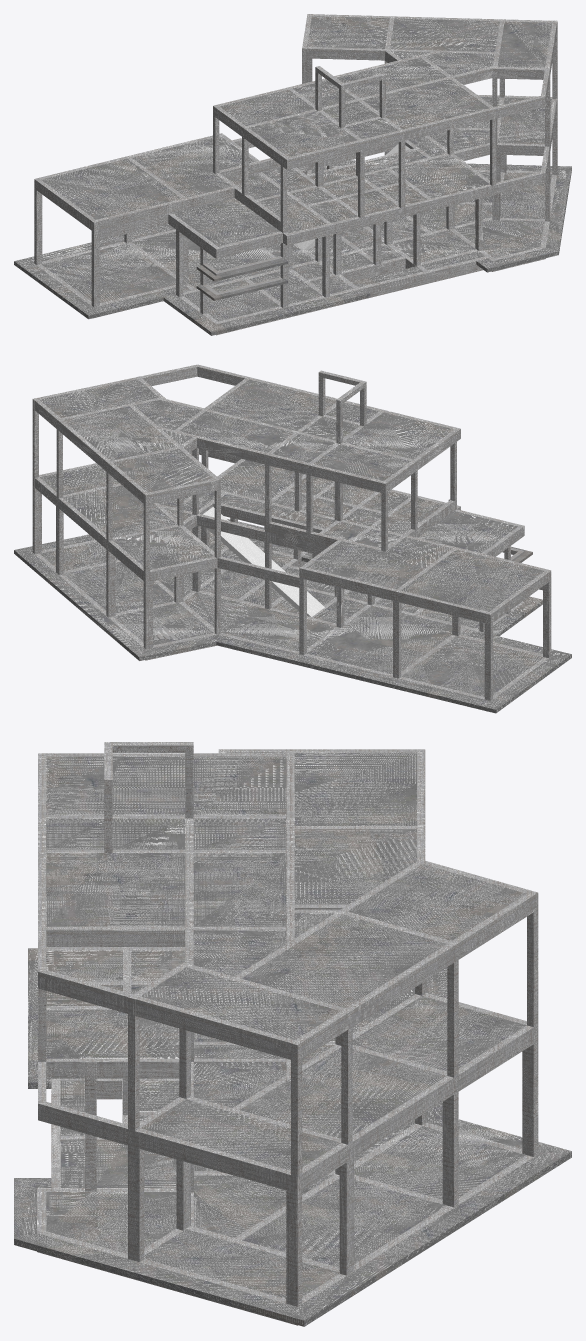
File: vivienda-em.dae
The picture shows the model from 3 angles, top to bottom: view 1: azimuth 30°, elevation 25°; view 2: azimuth 150°, elevation 25°; view 3: azimuth 270°, elevation 25°; orthographic projection. The views are drawn at different scales.
Visible parts, largest first — view 1: Platea (×15), Losas1_1 (×15), Losas2_1 (×11), Vig2 (×9), Vig3 (×5), Vig1 (×2), Col1_2 (×8), Col2_1 (×3), group_1, group_0, Vig4_1; view 2: Platea (×10), Losas1_1 (×12), Losas2_1 (×11), Vig2 (×12), Vig3 (×6), Col1_2 (×9), Vig1 (×2), Col2_1 (×7), Escalera_3, Vig4_1; view 3: Losas2_1 (×11), Platea (×10), Losas1_1 (×10), Vig3 (×7), Vig2 (×8), Col1_2 (×7), Col2_1 (×6), Vig1 (×4), Vig4_1.
Part boxes in pixels (bbox=[...]): Platea (×15): bbox=[14, 160, 571, 335]; Losas1_1 (×15): bbox=[41, 97, 551, 246]; Losas2_1 (×11): bbox=[219, 16, 551, 156]; Vig2 (×9): bbox=[34, 133, 549, 258]; Vig3 (×5): bbox=[213, 15, 556, 169]; Vig1 (×2): bbox=[34, 216, 549, 335]; Col1_2 (×8): bbox=[34, 145, 500, 307]; Col2_1 (×3): bbox=[358, 107, 496, 217]; group_1: bbox=[196, 259, 287, 281]; group_0: bbox=[196, 278, 287, 300]; Vig4_1: bbox=[315, 66, 385, 89]; Platea (×10): bbox=[14, 518, 571, 713]; Losas1_1 (×12): bbox=[40, 460, 544, 611]; Losas2_1 (×11): bbox=[40, 379, 453, 492]; Vig2 (×12): bbox=[56, 448, 551, 624]; Vig3 (×6): bbox=[33, 364, 460, 504]; Col1_2 (×9): bbox=[32, 476, 551, 700]; Vig1 (×2): bbox=[35, 553, 551, 704]; Col2_1 (×7): bbox=[32, 398, 387, 572]; Escalera_3: bbox=[203, 507, 324, 616]; Vig4_1: bbox=[318, 370, 366, 404]; Losas2_1 (×11): bbox=[46, 756, 526, 1039]; Platea (×10): bbox=[14, 948, 571, 1326]; Losas1_1 (×10): bbox=[46, 752, 526, 1170]; Vig3 (×7): bbox=[38, 753, 536, 1059]; Vig2 (×8): bbox=[38, 749, 535, 1190]; Col1_2 (×7): bbox=[85, 1021, 538, 1306]; Col2_1 (×6): bbox=[128, 891, 538, 1176]; Vig1 (×4): bbox=[37, 1078, 538, 1325]; Vig4_1: bbox=[104, 742, 193, 787].
Bounding box in the file's own units: 879 × 476 × 333.
5 materials, 3 textured.
